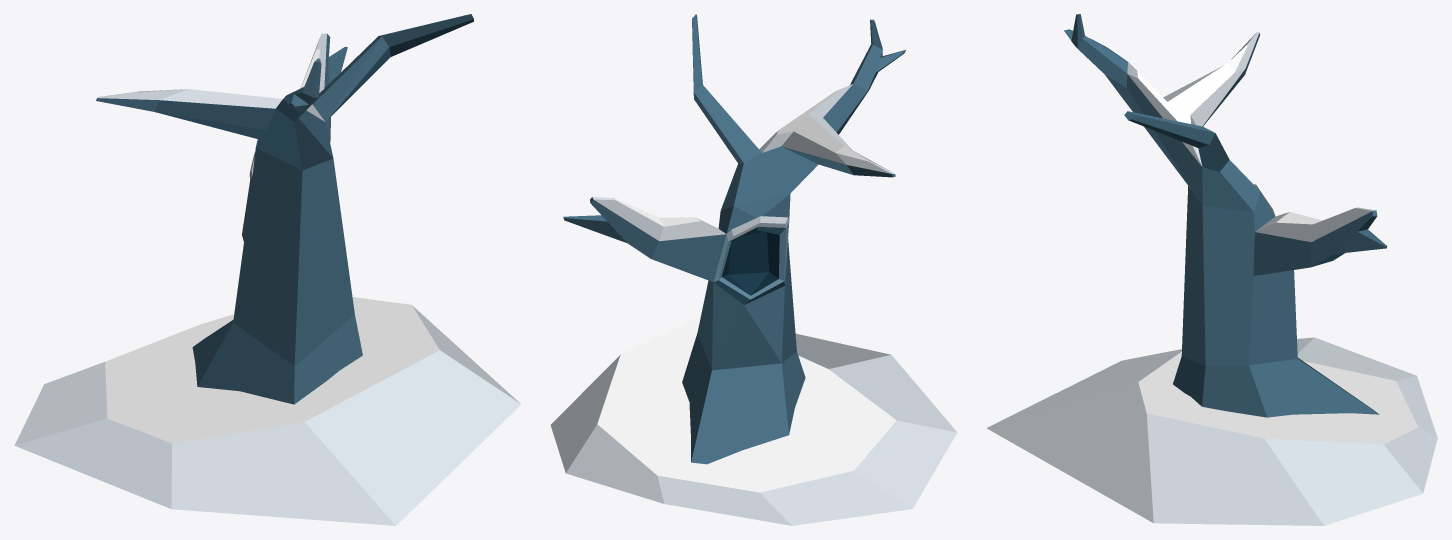
Rendered from TreeWinter10_Alt2.fbx.
3 renders of one model, left to right at view 1: azimuth 30°, elevation 25°; view 2: azimuth 150°, elevation 25°; view 3: azimuth 270°, elevation 25°, orthographic. The views are drawn at different scales.
Visible parts, largest first — view 1: TreeWinter10_Alt2; view 2: TreeWinter10_Alt2; view 3: TreeWinter10_Alt2.
Part boxes in pixels (x1,y1,x2,y2): TreeWinter10_Alt2: [14, 14, 521, 525]; TreeWinter10_Alt2: [550, 14, 957, 525]; TreeWinter10_Alt2: [986, 14, 1437, 525].
Size of the model in its own units: 1.57 by 1.57 by 1.59.
